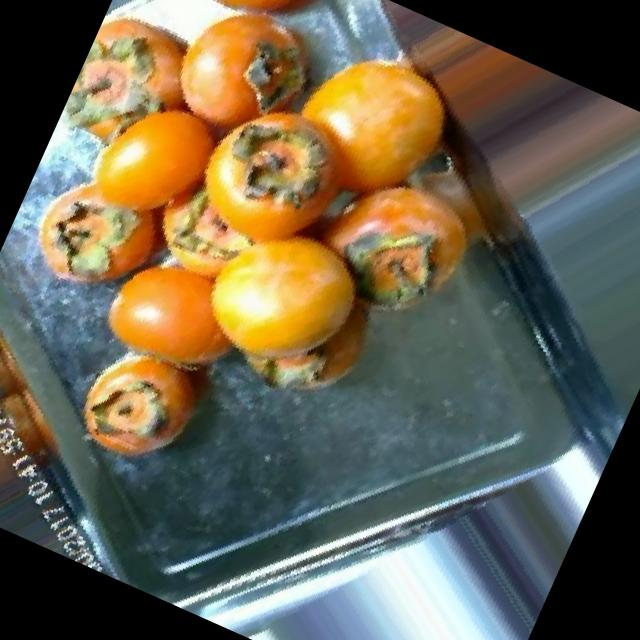Fruit: (172, 175, 432, 444), (248, 0, 496, 244), (70, 210, 282, 419), (54, 302, 245, 506)
